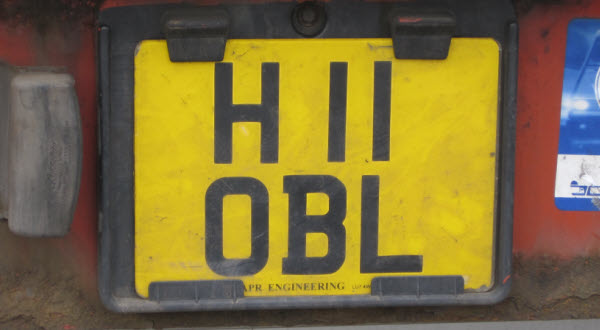license_plate: (134, 38, 500, 292)
